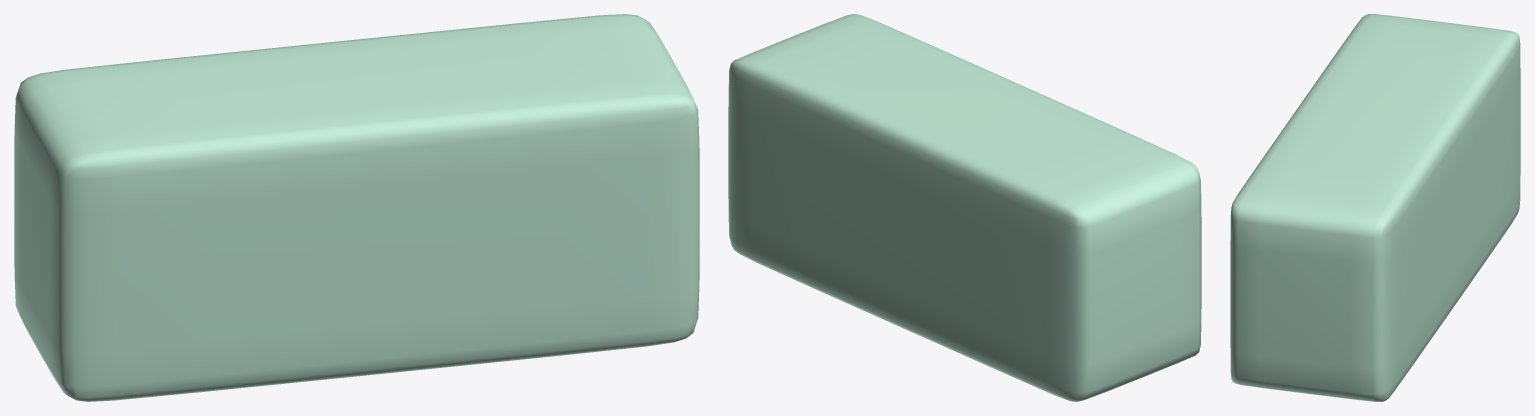
The model's file is PROP_Hedge_v1.glb.
3 views of the same model, side by side, from view 1: azimuth 30°, elevation 25°; view 2: azimuth 150°, elevation 25°; view 3: azimuth 270°, elevation 25° (orthographic). The views are drawn at different scales.
Parts seen in each view (by area): view 1: PROP_Hedge_v1; view 2: PROP_Hedge_v1; view 3: PROP_Hedge_v1.
Part boxes in pixels (x1,y1,x2,y2): PROP_Hedge_v1: (14, 14, 699, 401); PROP_Hedge_v1: (728, 14, 1201, 401); PROP_Hedge_v1: (1230, 14, 1520, 401).
Size of the model in its own units: 1.34 by 0.5426 by 0.7563.
